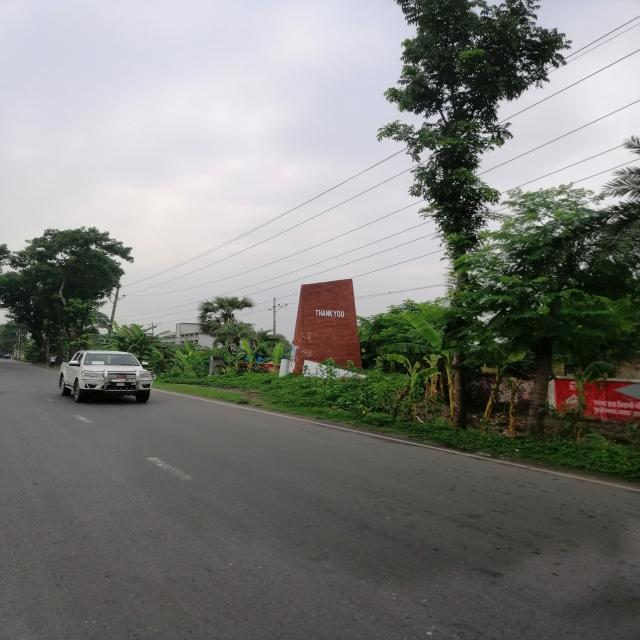Car: (29, 339, 171, 417)
